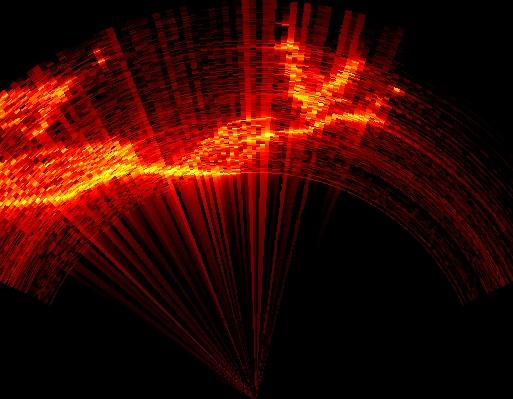shipwreck: (0, 39, 379, 204)
